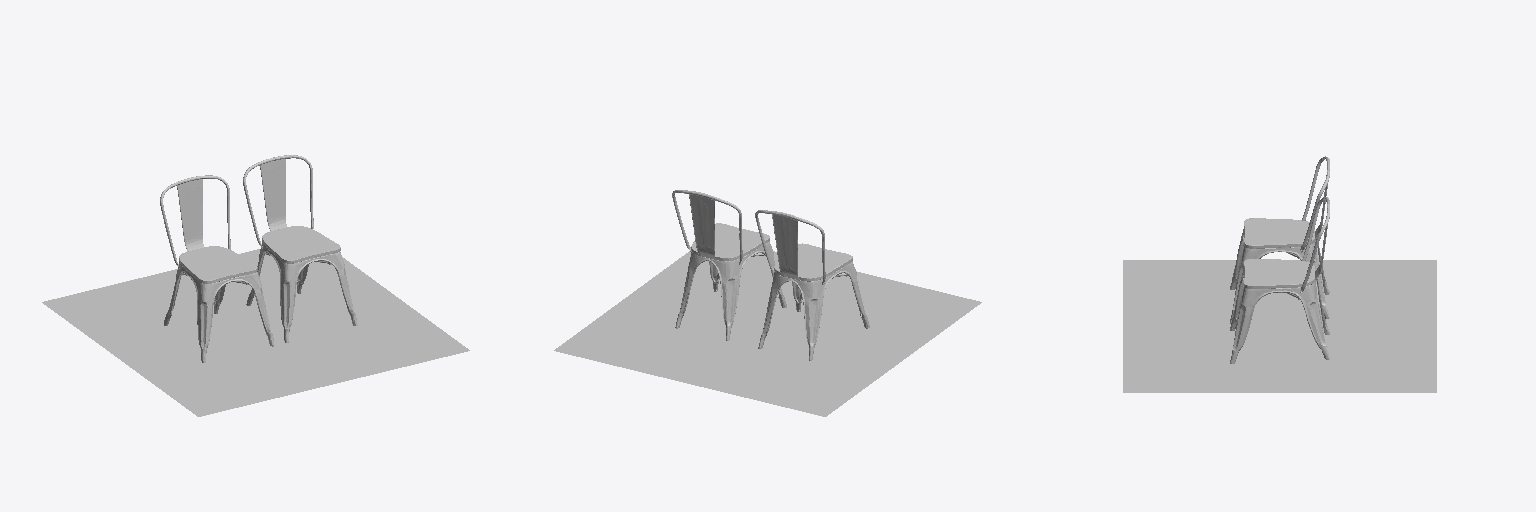
File: TADN2219.obj
The picture shows the model from 3 angles: view 1: azimuth 30°, elevation 25°; view 2: azimuth 150°, elevation 25°; view 3: azimuth 270°, elevation 25°; orthographic projection.
Visible parts, largest first — view 1: shadow_plane_v6, not_clear_obj_0_v6, not_clear_obj_2_v6; view 2: shadow_plane_v6, not_clear_obj_0_v6, not_clear_obj_2_v6; view 3: shadow_plane_v6, not_clear_obj_0_v6, not_clear_obj_2_v6.
Boxes of the visible parts, box(x1,y1,x2,y2) form: shadow_plane_v6: box(42, 249, 469, 416); not_clear_obj_0_v6: box(160, 155, 357, 362); not_clear_obj_2_v6: box(179, 226, 340, 283); shadow_plane_v6: box(554, 251, 981, 416); not_clear_obj_0_v6: box(672, 190, 869, 359); not_clear_obj_2_v6: box(691, 223, 852, 281); shadow_plane_v6: box(1123, 260, 1436, 392); not_clear_obj_0_v6: box(1230, 156, 1329, 362); not_clear_obj_2_v6: box(1244, 218, 1314, 288).
Bounding box in the file's own units: 167 × 82.53 × 167.